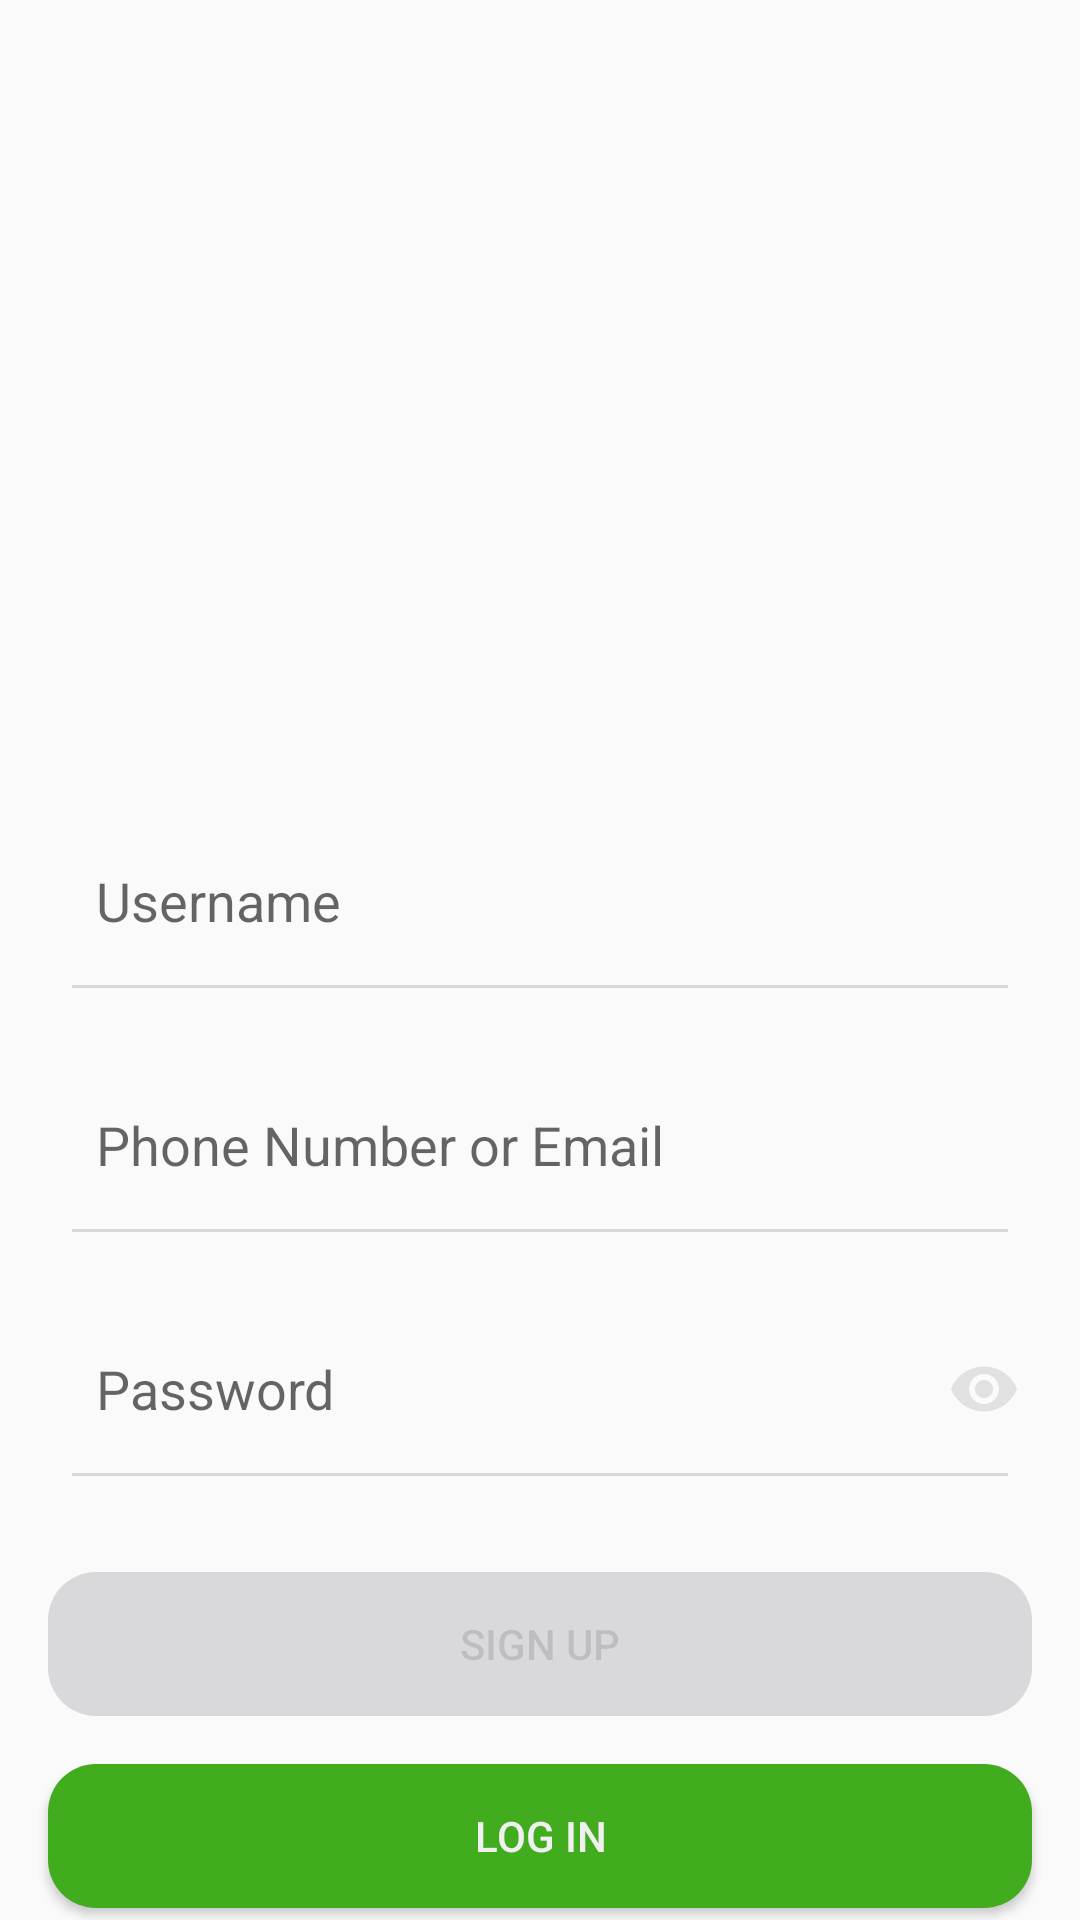

Named icons in this screenshot (1080px×1920px) and their centers, point (x, y):
eye: point (984, 1389)
